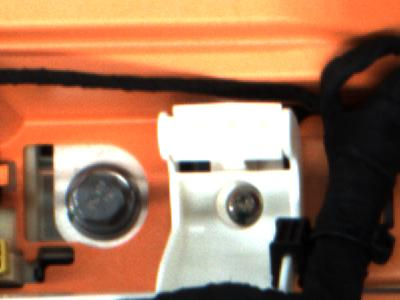nut_b: (67, 160, 150, 243)
